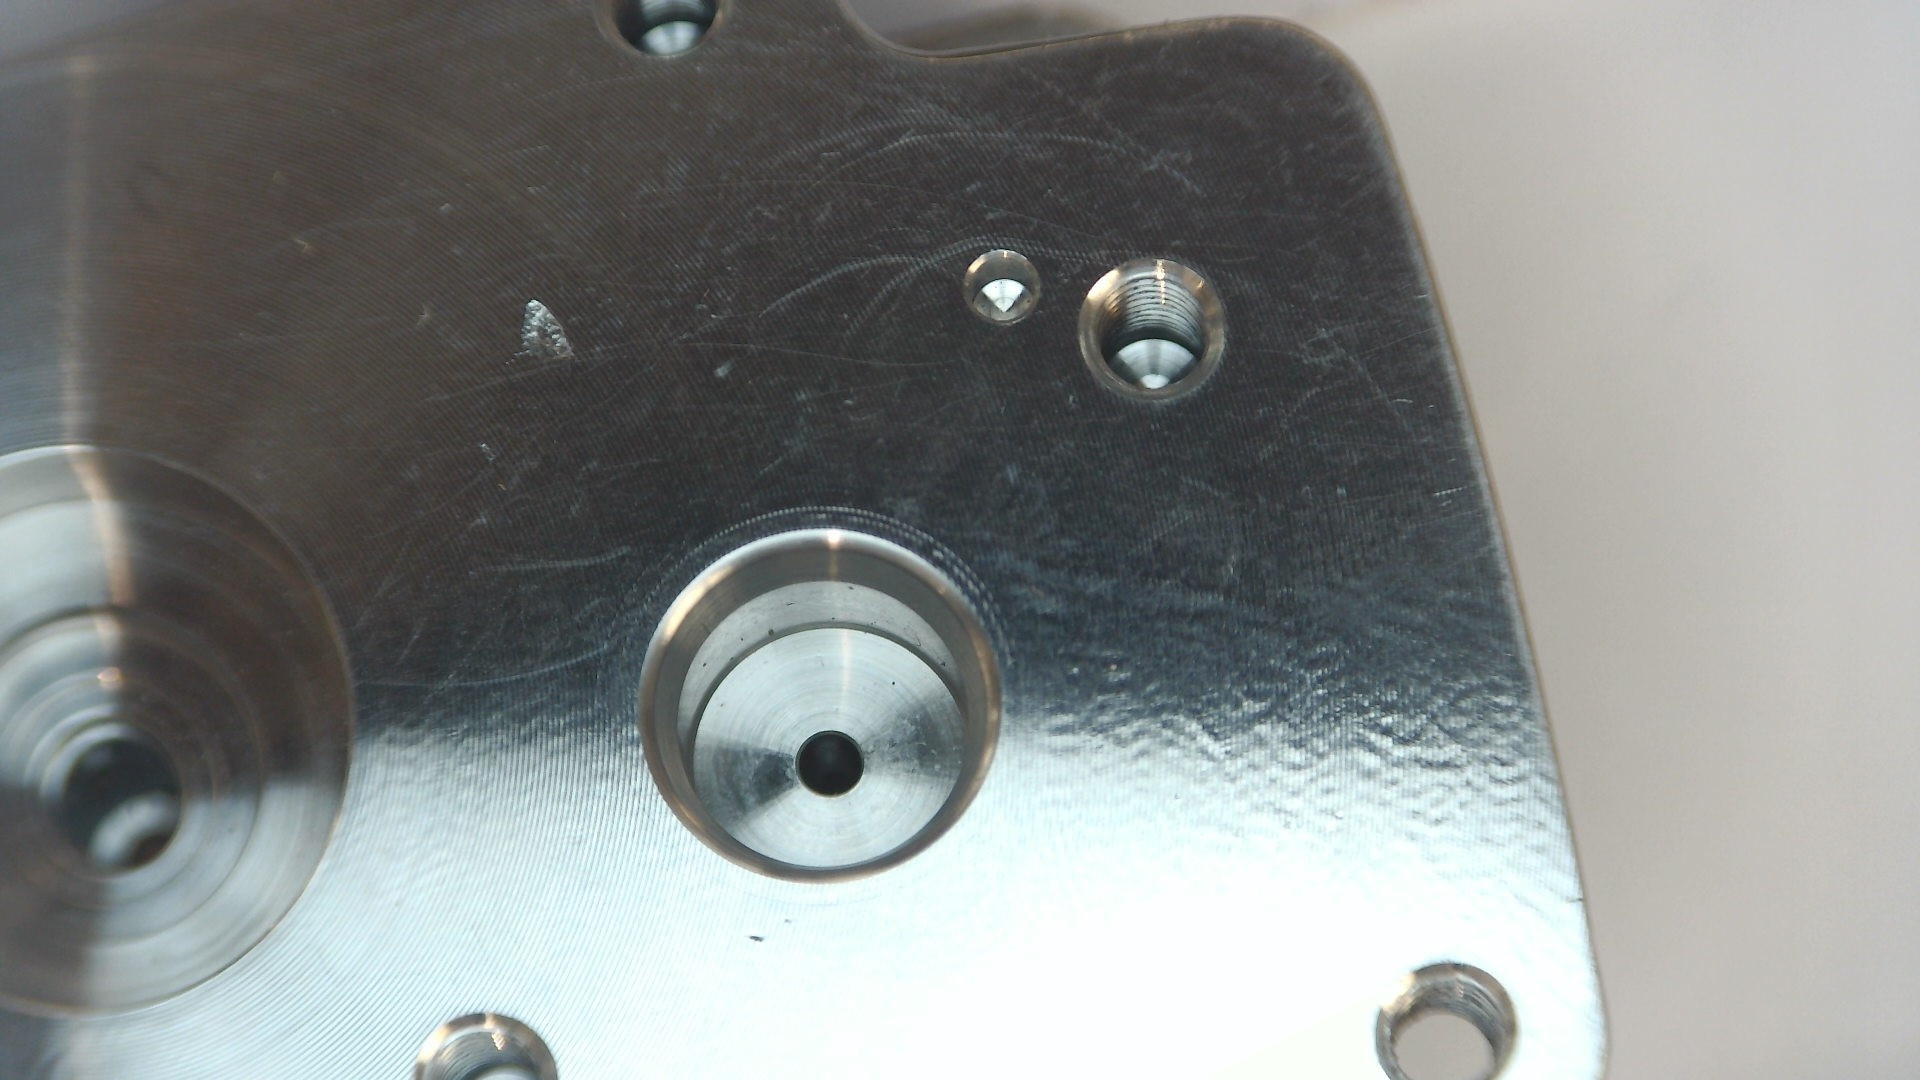dent: (505, 290, 582, 378), (705, 355, 735, 381)
thread_presence: (1387, 971, 1506, 1046), (1102, 272, 1209, 353)
